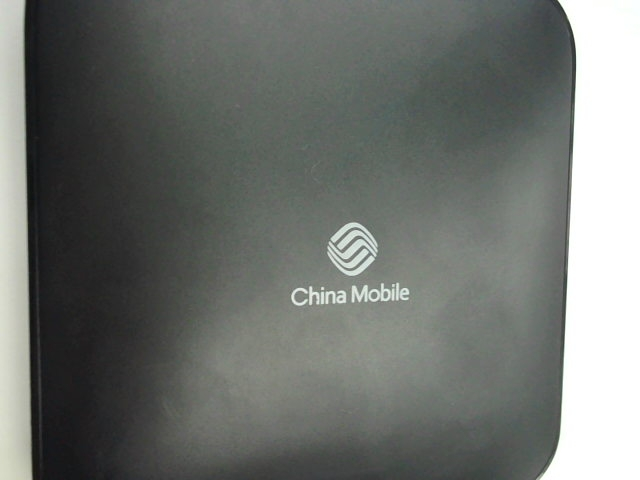ChinaMobile: (277, 206, 430, 312)
